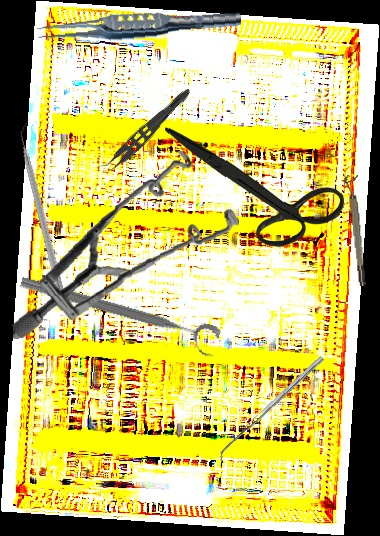Chopper: (14, 116, 78, 309)
Fixation Ring: (15, 271, 222, 360), (343, 174, 368, 287)
Iris Scissors: (164, 122, 346, 250)
Spatula Surgical: (215, 355, 328, 463)
Speculum: (1, 147, 246, 339)
Tissue Forceps: (96, 79, 194, 181), (36, 3, 242, 48)
